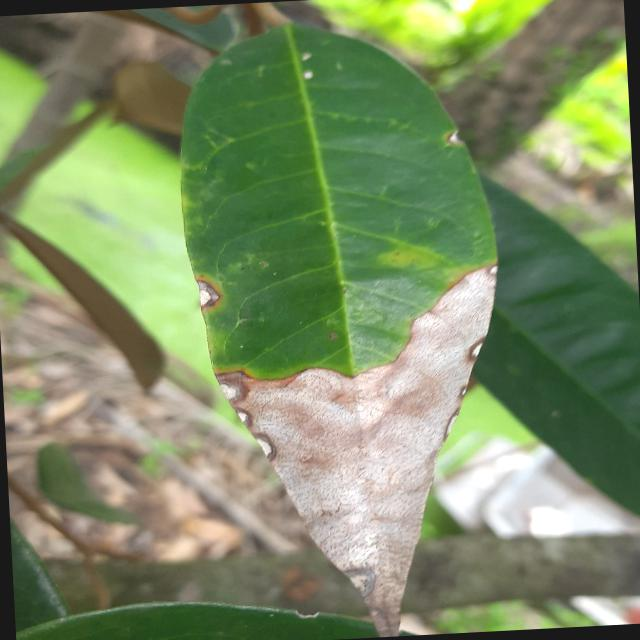Leaf Blight: (161, 9, 528, 639)
